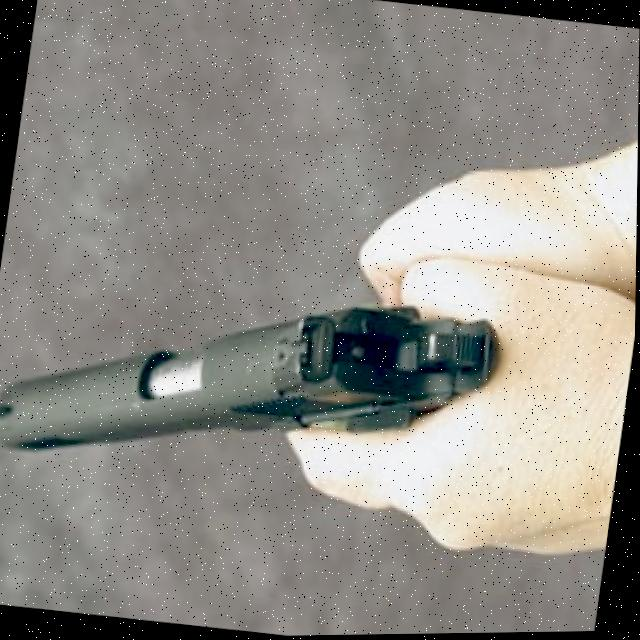pistol: (0, 252, 509, 508)
